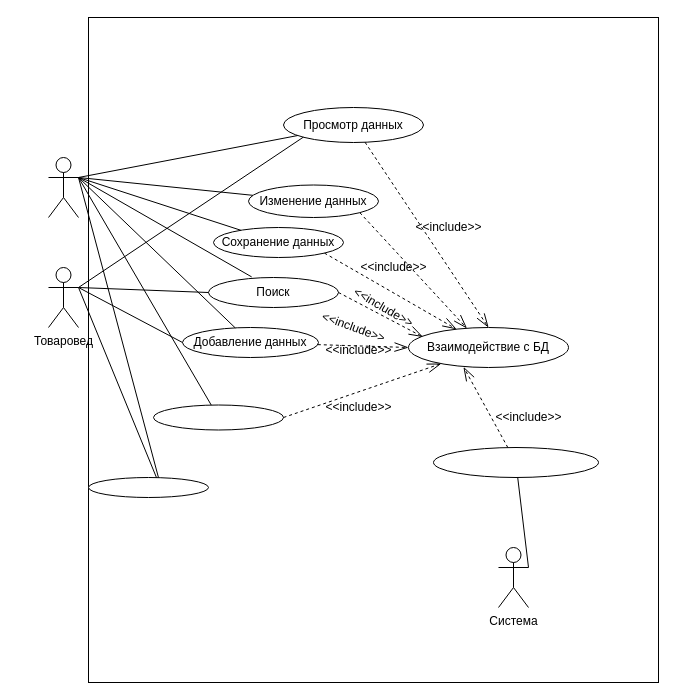
Image size: 676x700. Some labels were removed from this diagram. The shapes that lost their labels are listed below. From the top down, each one's centre as x and y in pixels, then its label:
(x=63, y=187): Администратора
(x=218, y=417): Авторизация
(x=515, y=462): Соединение с БД
(x=148, y=487): Регистрация
